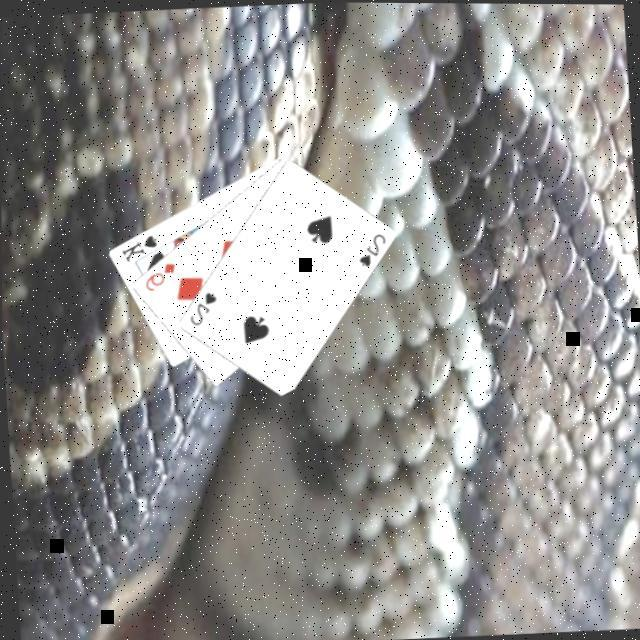2S: (186, 289, 222, 329), (355, 230, 391, 270)
6D: (141, 259, 181, 295)
KS: (118, 232, 163, 266)
